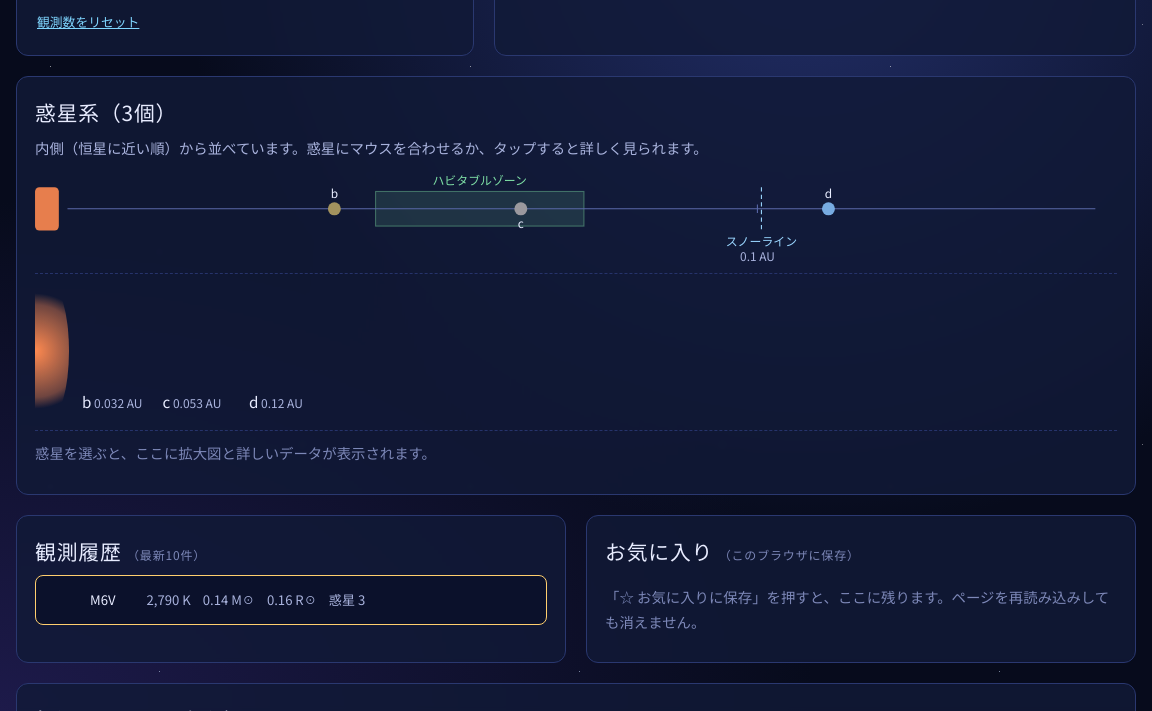
Test case: 惑星のインタラクション › マウスを合わせると拡大表示と詳しい情報が出る
(page scrolled)
Hover over the button "c 0.053 AU" at (192, 351), box [156,282,228,420]
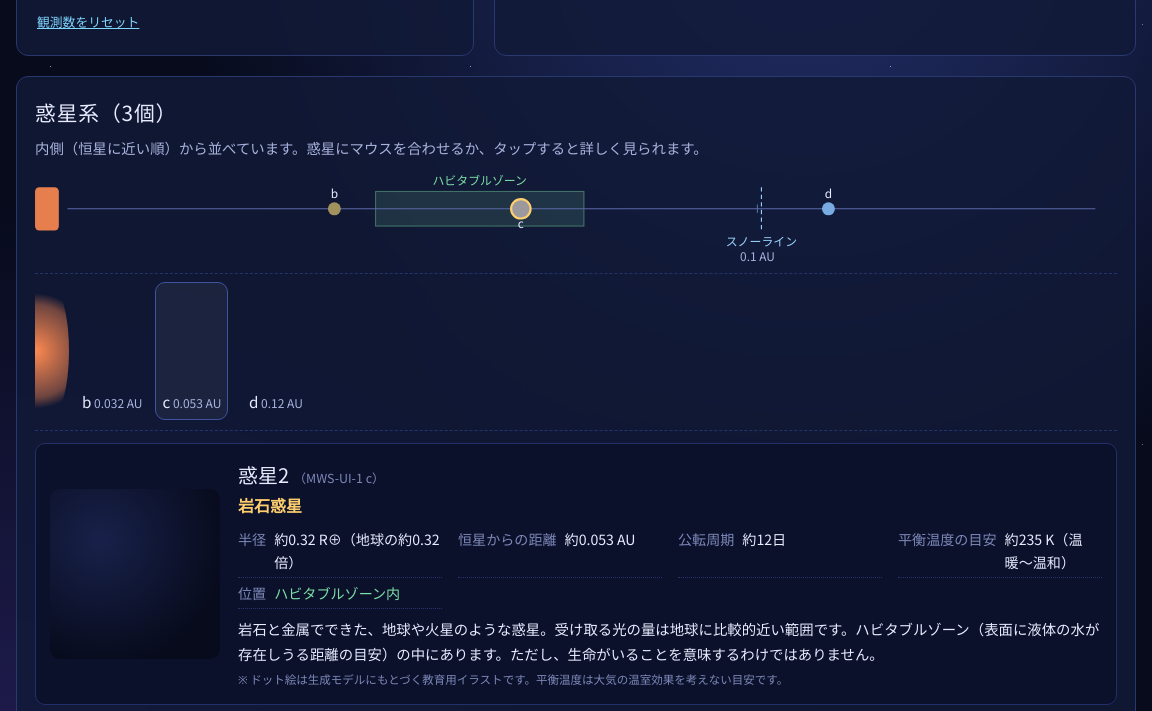
Expected: the element "惑星2" is shown, [35,443,1117,705]
Expected: the picture named "惑星2の拡大ドット絵" is shown, [56,496,214,653]
Expected: the text "半径" is shown, [238,528,266,548]
